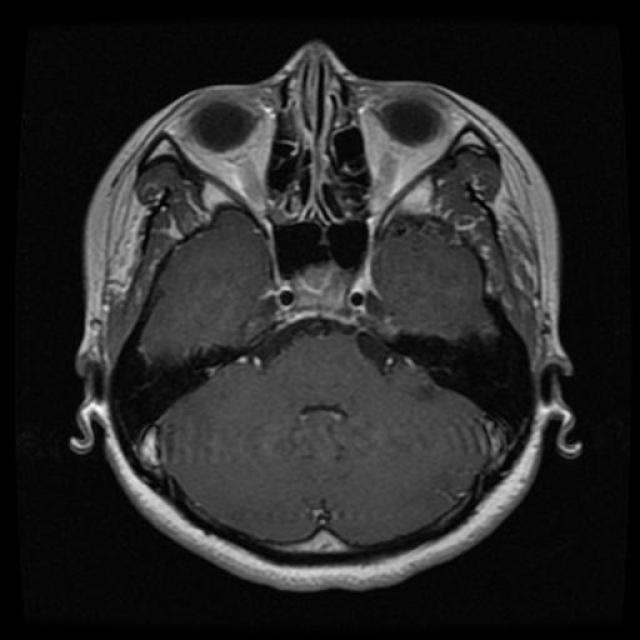pituitary: (262, 256, 388, 339)
